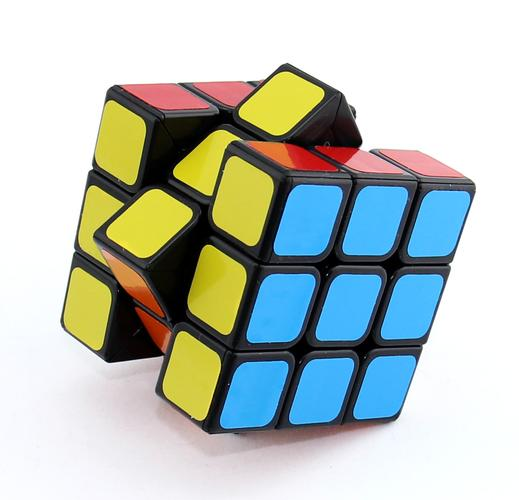cube: (62, 58, 481, 448)
